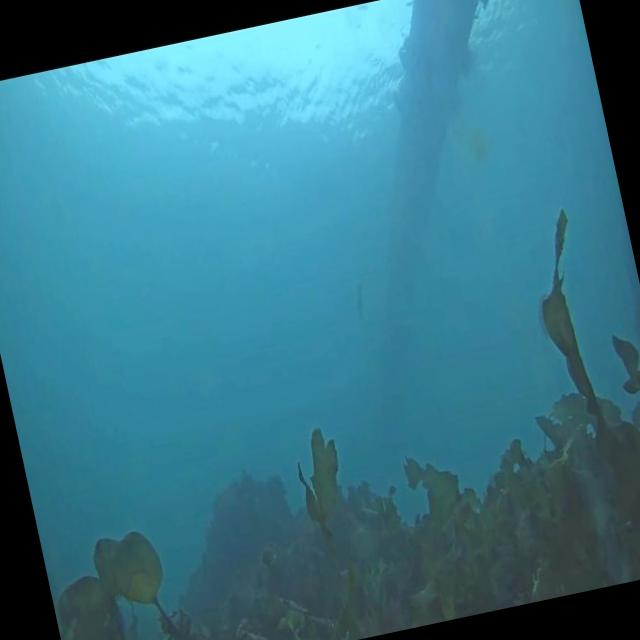fish: (344, 272, 372, 331)
